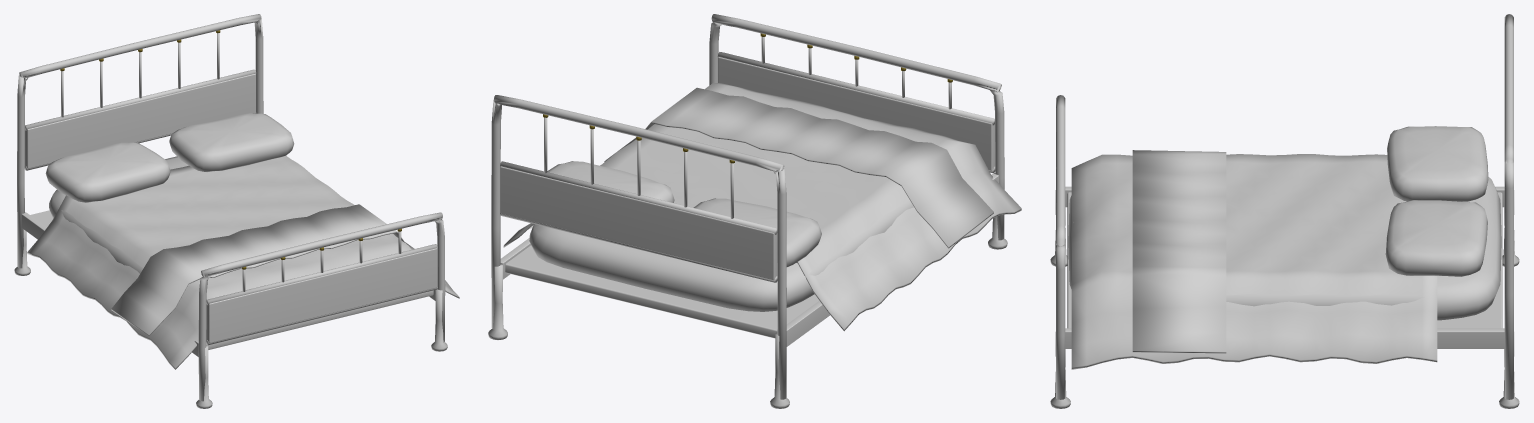
File: 03_Iron_Bed.fbx
The picture shows the model from 3 angles, left to right: view 1: azimuth 30°, elevation 25°; view 2: azimuth 150°, elevation 25°; view 3: azimuth 270°, elevation 25°; orthographic projection. The views are drawn at different scales.
Parts seen in each view (by area): view 1: 03_Iron_Bed; view 2: 03_Iron_Bed; view 3: 03_Iron_Bed.
Boxes of the visible parts, x1,y1,x2,y2 form: 03_Iron_Bed: (14,14,459,408); 03_Iron_Bed: (488,14,1021,408); 03_Iron_Bed: (1050,14,1519,408).
Bounding box in the file's own units: 1.88 × 1.27 × 2.15.
